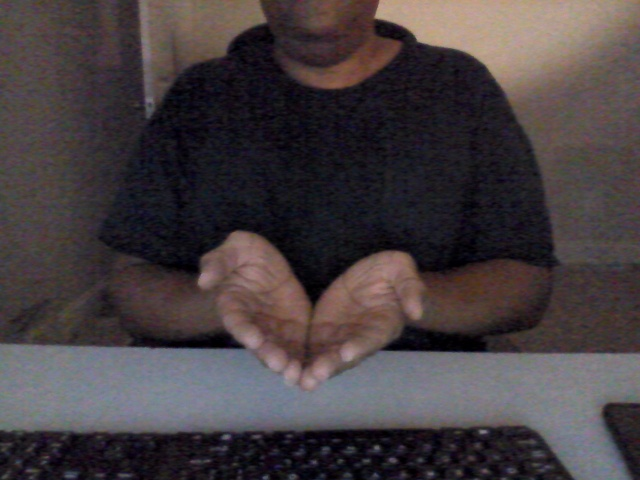book: (182, 222, 443, 401)
